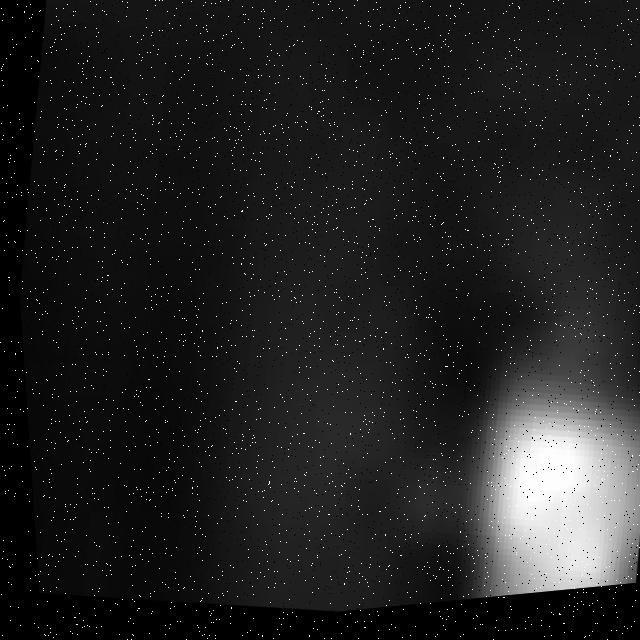person: (436, 308, 640, 609)
